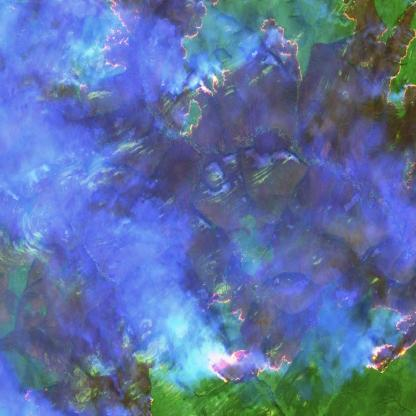fire: (83, 0, 416, 416)
